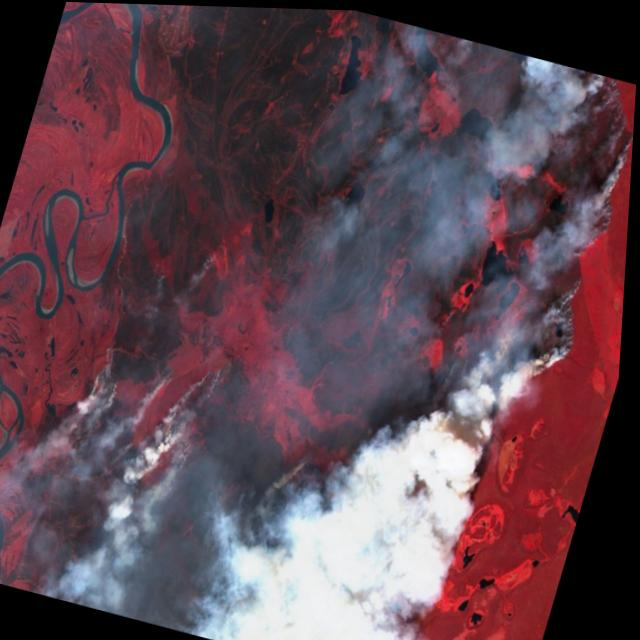fire: (452, 55, 638, 417), (49, 311, 262, 515), (271, 581, 381, 640), (269, 430, 328, 506)
